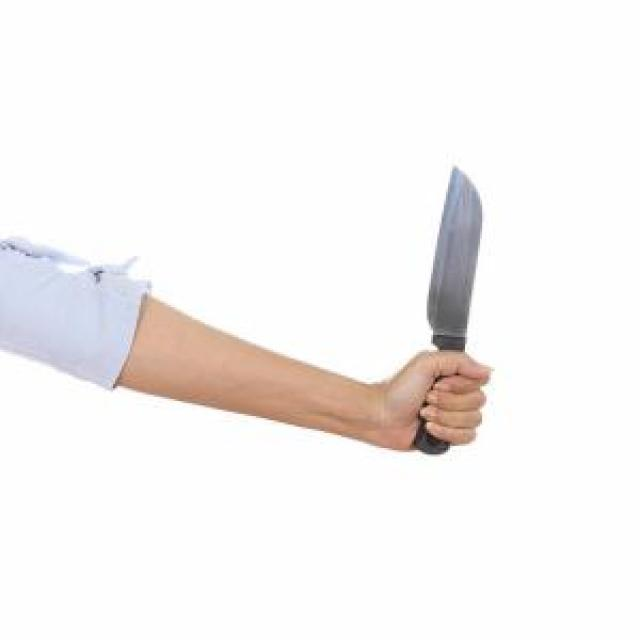knife: (410, 162, 488, 458)
